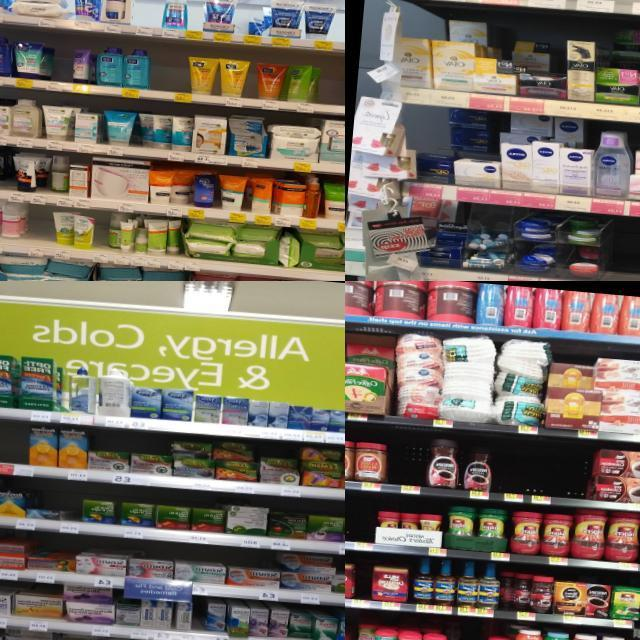empty: (526, 441, 594, 508), (386, 432, 428, 494), (602, 216, 640, 281), (492, 439, 530, 502), (150, 50, 188, 100), (345, 491, 377, 550), (0, 419, 27, 475), (24, 205, 53, 257), (318, 65, 345, 114), (130, 0, 162, 36), (48, 44, 72, 92), (60, 486, 82, 534), (91, 210, 109, 262), (186, 0, 206, 40), (235, 0, 252, 43), (332, 5, 345, 53)
